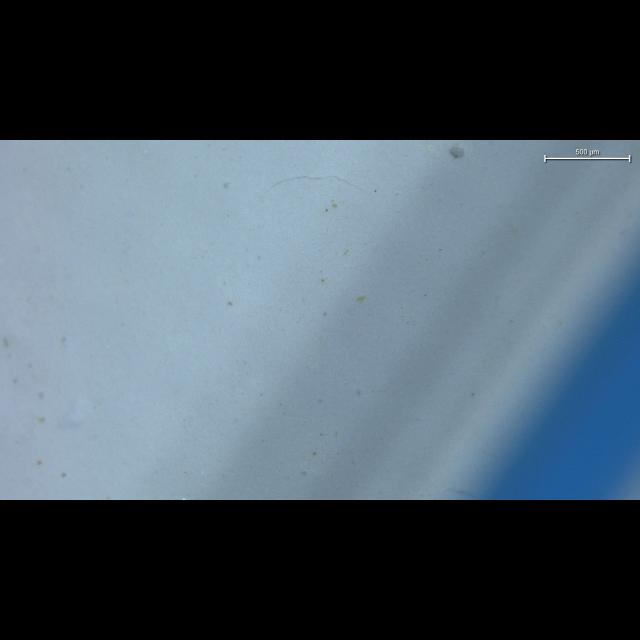Fibre: (264, 175, 365, 195)
Fragment: (450, 143, 464, 158)
